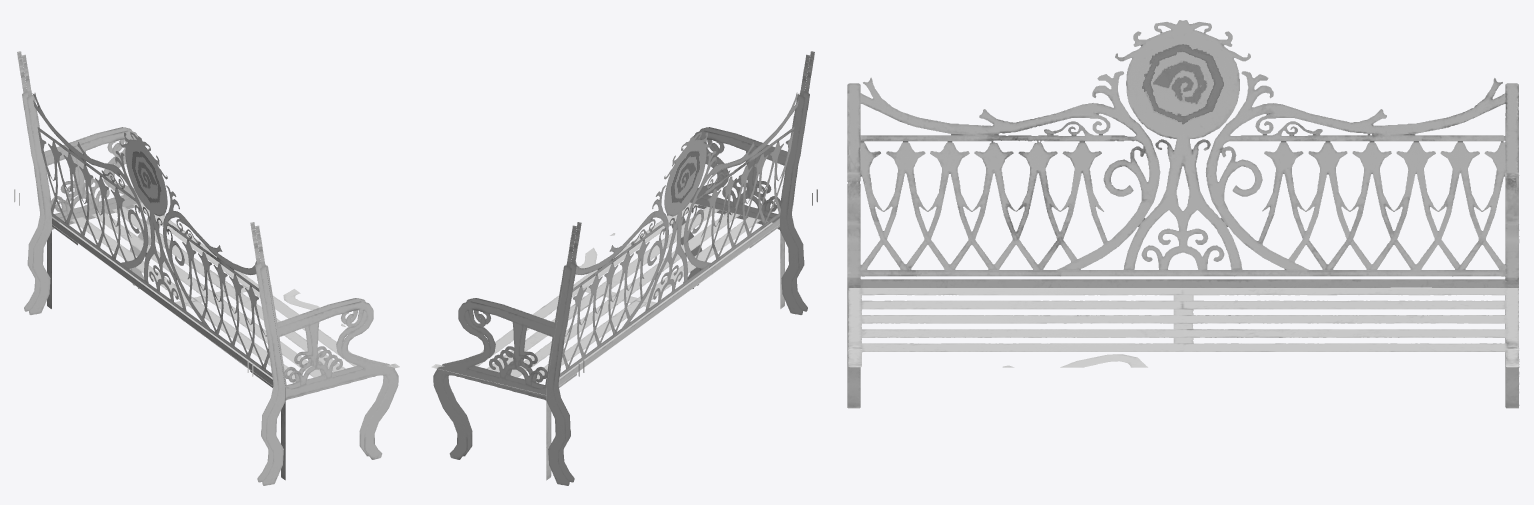
Rendered from bench_LOD2.fbx.
3 renders of one model, left to right at view 1: azimuth 30°, elevation 25°; view 2: azimuth 150°, elevation 25°; view 3: azimuth 270°, elevation 25°, orthographic. The views are drawn at different scales.
Parts seen in each view (by area): view 1: bench_LOD2; view 2: bench_LOD2; view 3: bench_LOD2.
Boxes of the visible parts, left/top/right/bottom form: bench_LOD2: left=14, top=51, right=399, bottom=485; bench_LOD2: left=431, top=51, right=817, bottom=485; bench_LOD2: left=847, top=20, right=1519, bottom=408.
Bounding box in the file's own units: 90.29 × 154 × 251.
